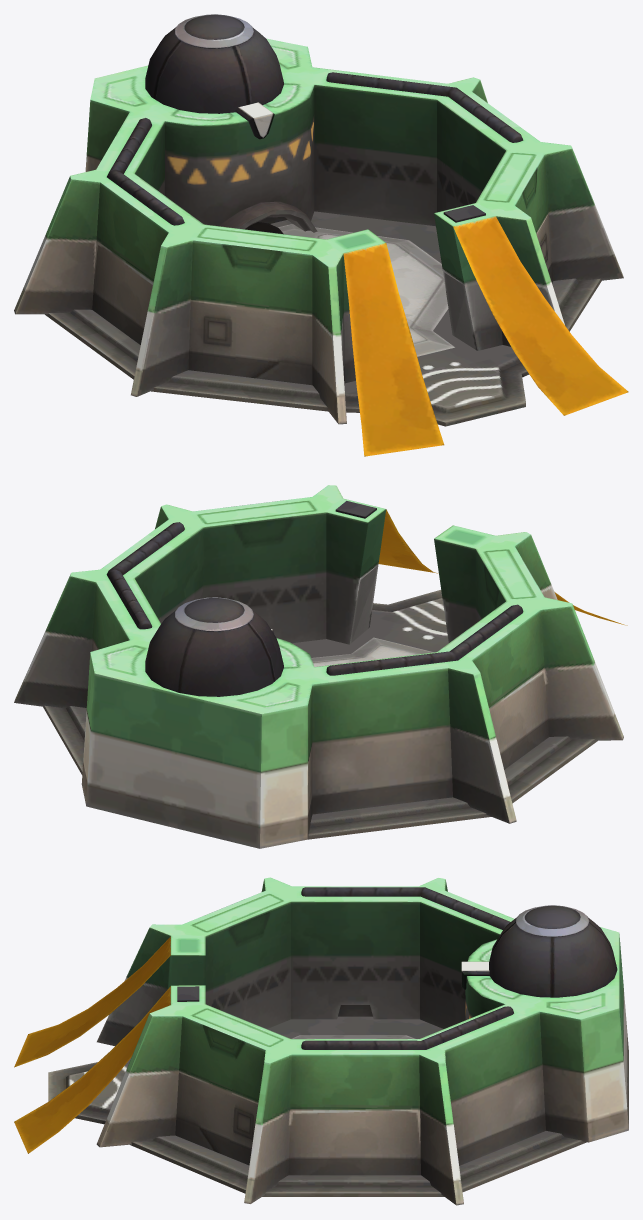
File: Ambassade_real.fbx
3 views of the same model, one above another, from view 1: azimuth 30°, elevation 25°; view 2: azimuth 150°, elevation 25°; view 3: azimuth 270°, elevation 25° (orthographic). The views are drawn at different scales.
Parts seen in each view (by area): view 1: Ambassade; view 2: Ambassade; view 3: Ambassade.
Boxes of the visible parts, x1,y1,x2,y2 form: Ambassade: (14, 14, 628, 456); Ambassade: (14, 485, 627, 848); Ambassade: (14, 877, 628, 1205).
Bounding box in the file's own units: 3.06 × 3.49 × 1.15.
